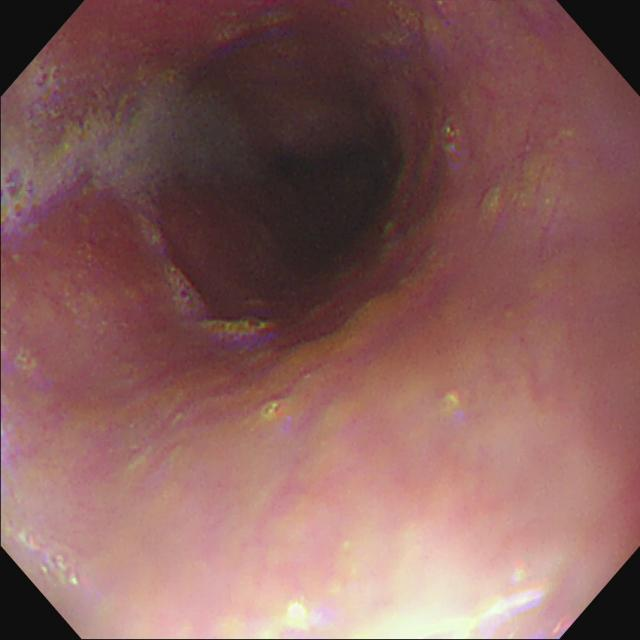E: (297, 123, 389, 254)
T: (2, 65, 234, 232)
